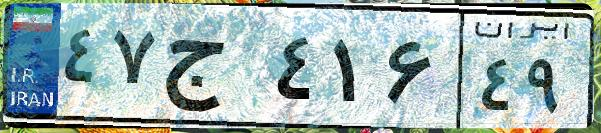1: (330, 28, 385, 110)
4: (270, 28, 330, 110), (57, 26, 110, 100), (475, 38, 525, 113)
6: (385, 28, 445, 110)
7: (110, 28, 158, 98)
9: (525, 38, 570, 115)
ج: (158, 20, 270, 120)
